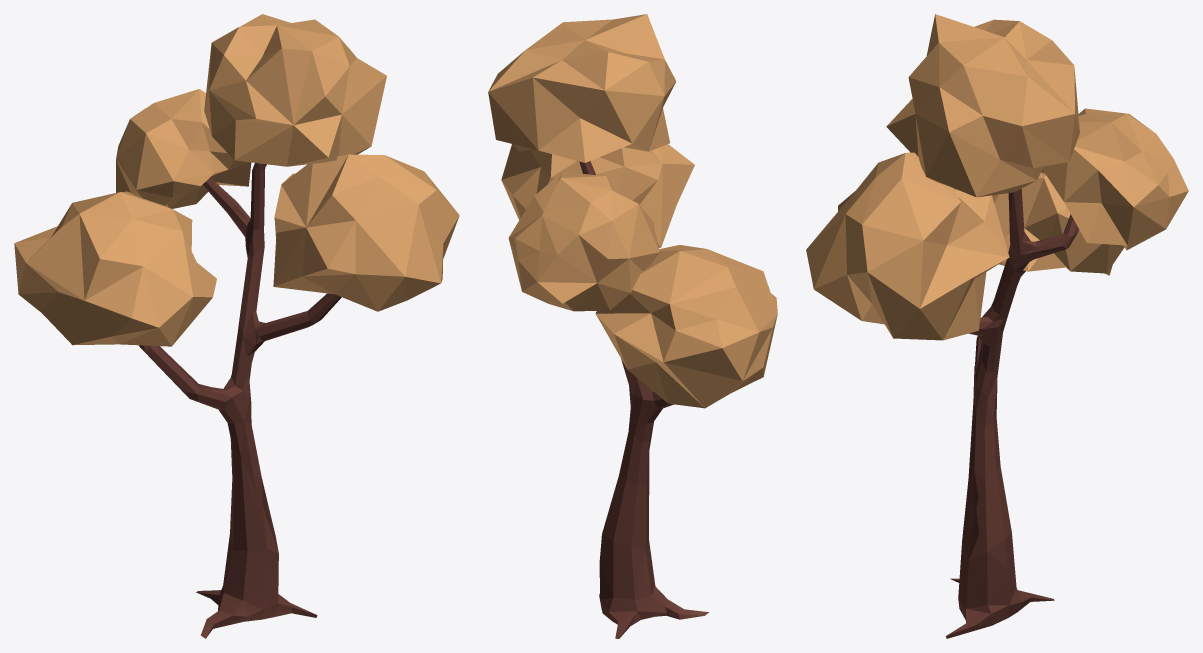
File: Oak_medium.fbx
3 renders of one model, left to right at view 1: azimuth 30°, elevation 25°; view 2: azimuth 150°, elevation 25°; view 3: azimuth 270°, elevation 25°, orthographic. The views are drawn at different scales.
Parts seen in each view (by area): view 1: oak_crown_Medium, oak_trunk_Medium; view 2: oak_crown_Medium, oak_trunk_Medium; view 3: oak_crown_Medium, oak_trunk_Medium.
Boxes of the visible parts, <box> form: oak_crown_Medium: <box>14,14,459,346</box>; oak_trunk_Medium: <box>139,163,341,638</box>; oak_crown_Medium: <box>488,14,777,408</box>; oak_trunk_Medium: <box>579,161,708,638</box>; oak_crown_Medium: <box>806,14,1188,340</box>; oak_trunk_Medium: <box>946,188,1078,638</box>.
Size of the model in its own units: 135 by 223 by 128.
